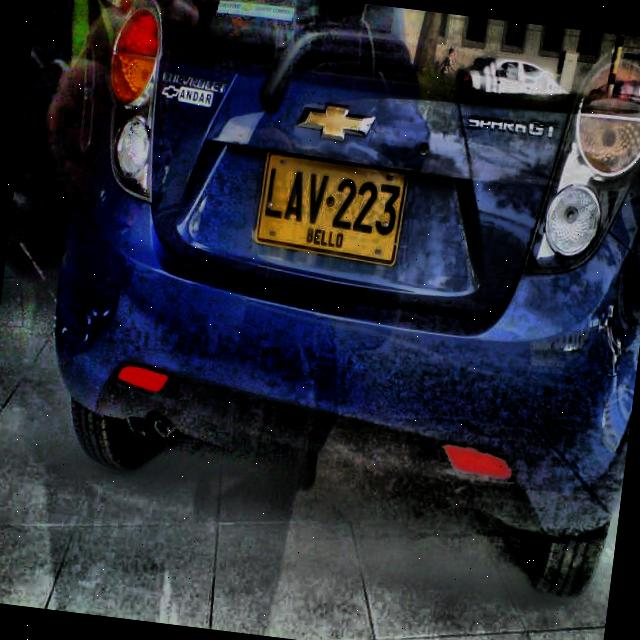2: (329, 176, 359, 232), (351, 178, 380, 234)
3: (372, 182, 400, 236)
A: (283, 168, 309, 222)
L: (262, 167, 289, 220)
V: (304, 172, 330, 224)
